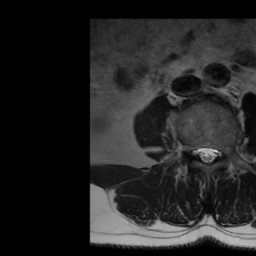CCS_normal: (203, 138, 209, 171)
LFS_normal: (217, 142, 225, 165)
LLS_normal: (209, 142, 217, 167)
RFS_normal: (186, 137, 195, 161)
RLS_normal: (196, 140, 203, 162)
